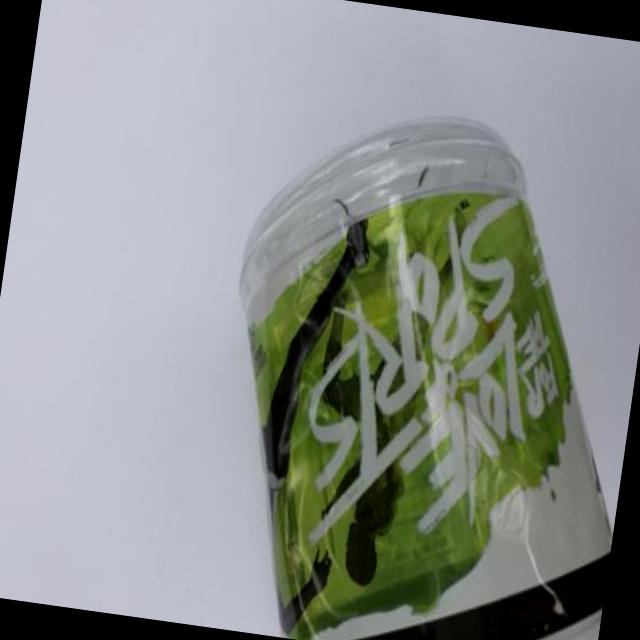Recycle: (187, 82, 640, 640)
